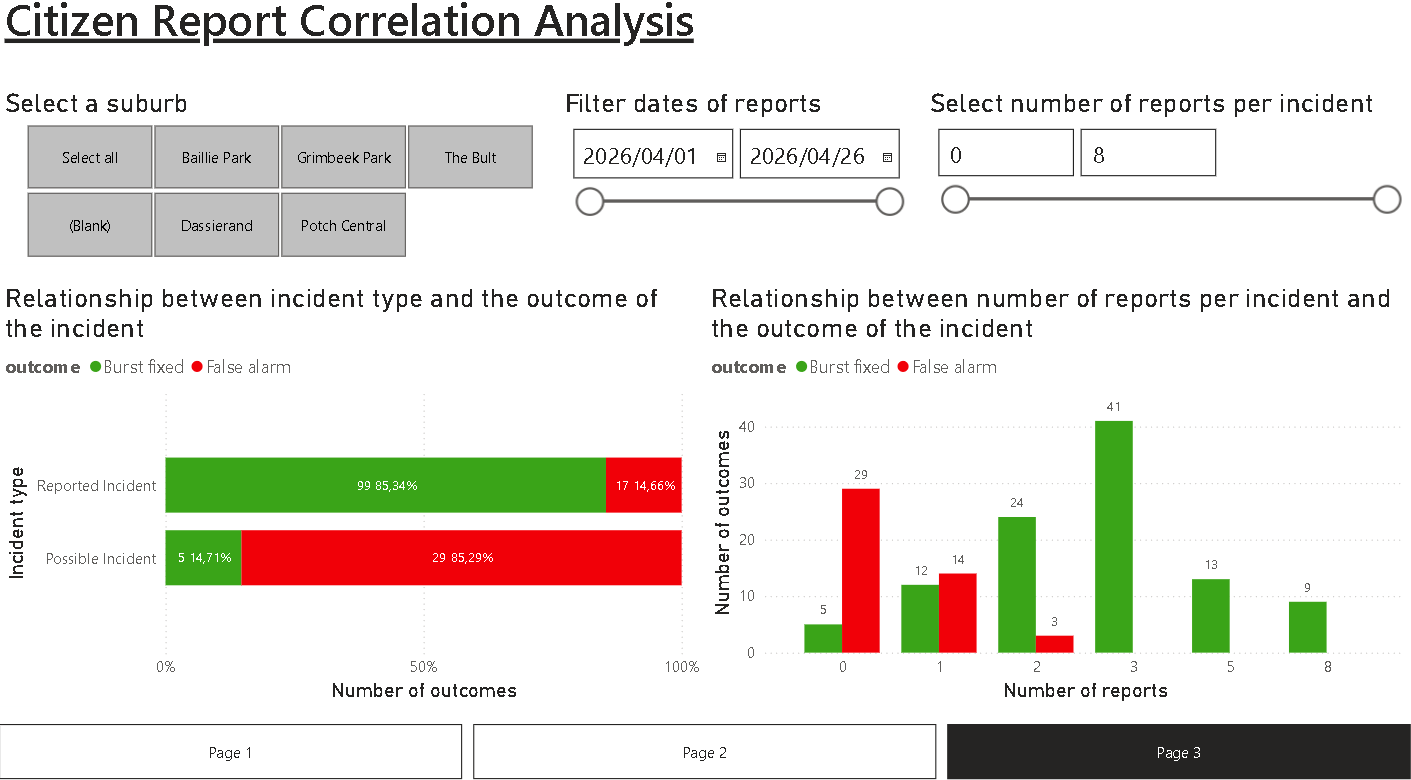

The page's visual inventory and layout, read from the dashboard file:
{"tool":"powerbi","page":{"name":"Page 3","canvas":[1280,720],"ordinal":2},"visuals":[{"type":"hundredPercentStackedBarChart","title":"Relationship between incident type and the outcome of the incident","fields":{"Y":["CountNonNull(IncidentHistory.outcome)"],"Series":["IncidentHistory.outcome"],"Category":["IncidentHistory.incident_type"]},"box":[0,266.6,640,384.2],"z":0},{"type":"clusteredColumnChart","title":"Relationship between number of reports per incident and the outcome of the incident","fields":{"Series":["IncidentHistory.outcome"],"Y":["CountNonNull(IncidentHistory.final_social_reports)"],"Category":["IncidentHistory.final_social_reports"]},"box":[640,266.6,640,384.2],"z":1000},{"type":"slicer","title":"Select number of reports per incident","fields":{"Values":["IncidentHistory.final_social_reports"]},"box":[839,90.2,441,130.4],"z":2000},{"type":"slicer","title":"Filter dates of reports","fields":{"Values":["IncidentHistory.date_only"]},"box":[507.7,90.2,321.5,130.4],"z":3000},{"type":"slicer","title":"Select a suburb","fields":{"Values":["SensorMaster.suburb"]},"box":[0,90.2,507.7,159.8],"z":4000},{"type":"pageNavigator","box":[0,666.2,1280,50.3],"z":5000},{"type":"textbox","title":"Citizen Report Correlation Analysis","box":[0,0,835.5,63.2],"z":6000}]}

Visuals, with their boxes in screenshot pixels (x1, y1, x2, y2), scaled from the page's 1280x720 canvas onto the 1411x780 screenshot:
"Relationship between incident type and the outcome of the incident" hundredPercentStackedBarChart: (0, 289, 706, 705)
"Relationship between number of reports per incident and the outcome of the incident" clusteredColumnChart: (706, 289, 1410, 705)
"Select number of reports per incident" slicer: (925, 98, 1410, 239)
"Filter dates of reports" slicer: (560, 98, 914, 239)
"Select a suburb" slicer: (0, 98, 560, 271)
pageNavigator: (0, 722, 1410, 776)
"Citizen Report Correlation Analysis" textbox: (0, 0, 921, 68)
